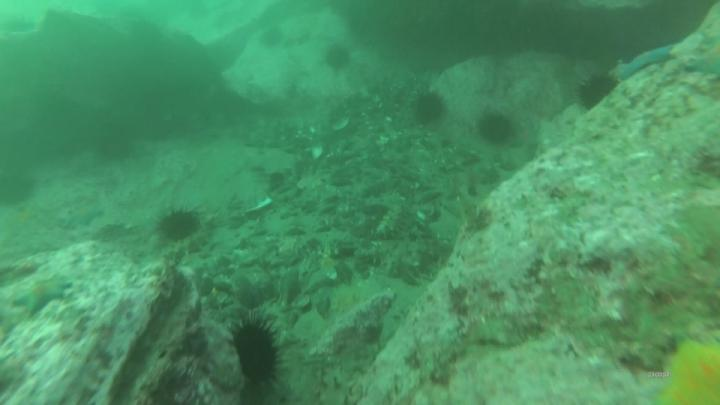echinus: (241, 324, 281, 385), (578, 79, 619, 106), (162, 213, 201, 241), (479, 112, 514, 143), (416, 95, 444, 126), (326, 45, 350, 71)
starfish: (15, 277, 72, 314), (623, 44, 672, 79), (68, 204, 104, 228)
